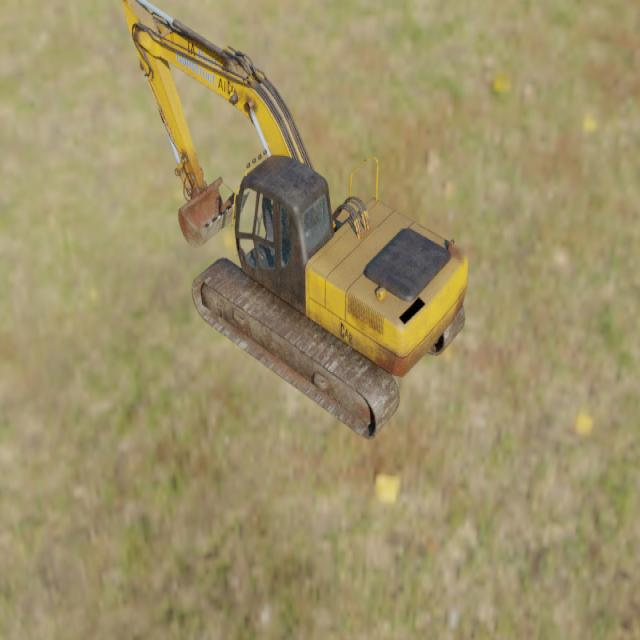excavator: (121, 0, 468, 441)
